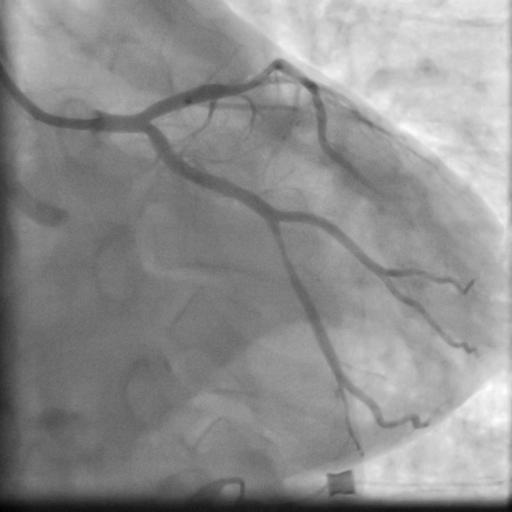Stenosis: (274, 230, 289, 277)
